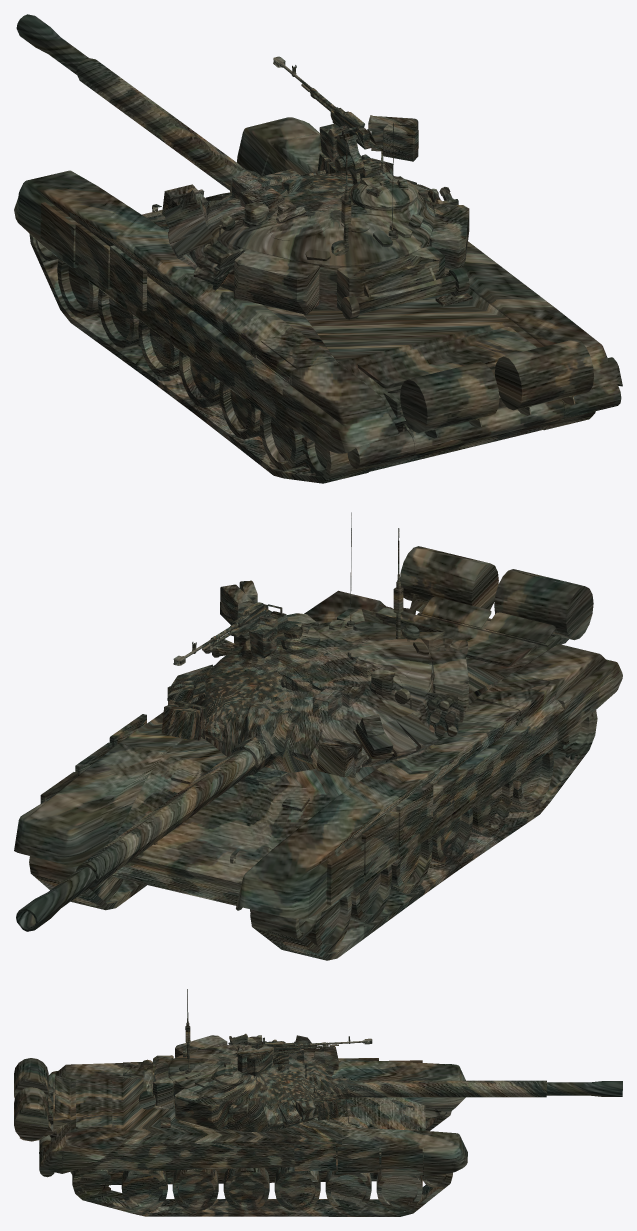
3 renders of one model, top to bottom at view 1: azimuth 30°, elevation 25°; view 2: azimuth 150°, elevation 25°; view 3: azimuth 270°, elevation 25°, orthographic. The views are drawn at different scales.
Parts seen in each view (by area): view 1: Gear, Tower; view 2: Gear, Tower; view 3: Gear, Tower.
Part boxes in pixels (x1,y1,x2,y2): Gear: (14, 117, 622, 483); Tower: (16, 14, 469, 319); Gear: (14, 546, 622, 960); Tower: (16, 512, 468, 931); Gear: (14, 1058, 467, 1216); Tower: (139, 989, 622, 1131).
Bounding box in the file's own units: 2541 × 2421 × 7324.
Materials: 1 (1 with a texture image).
